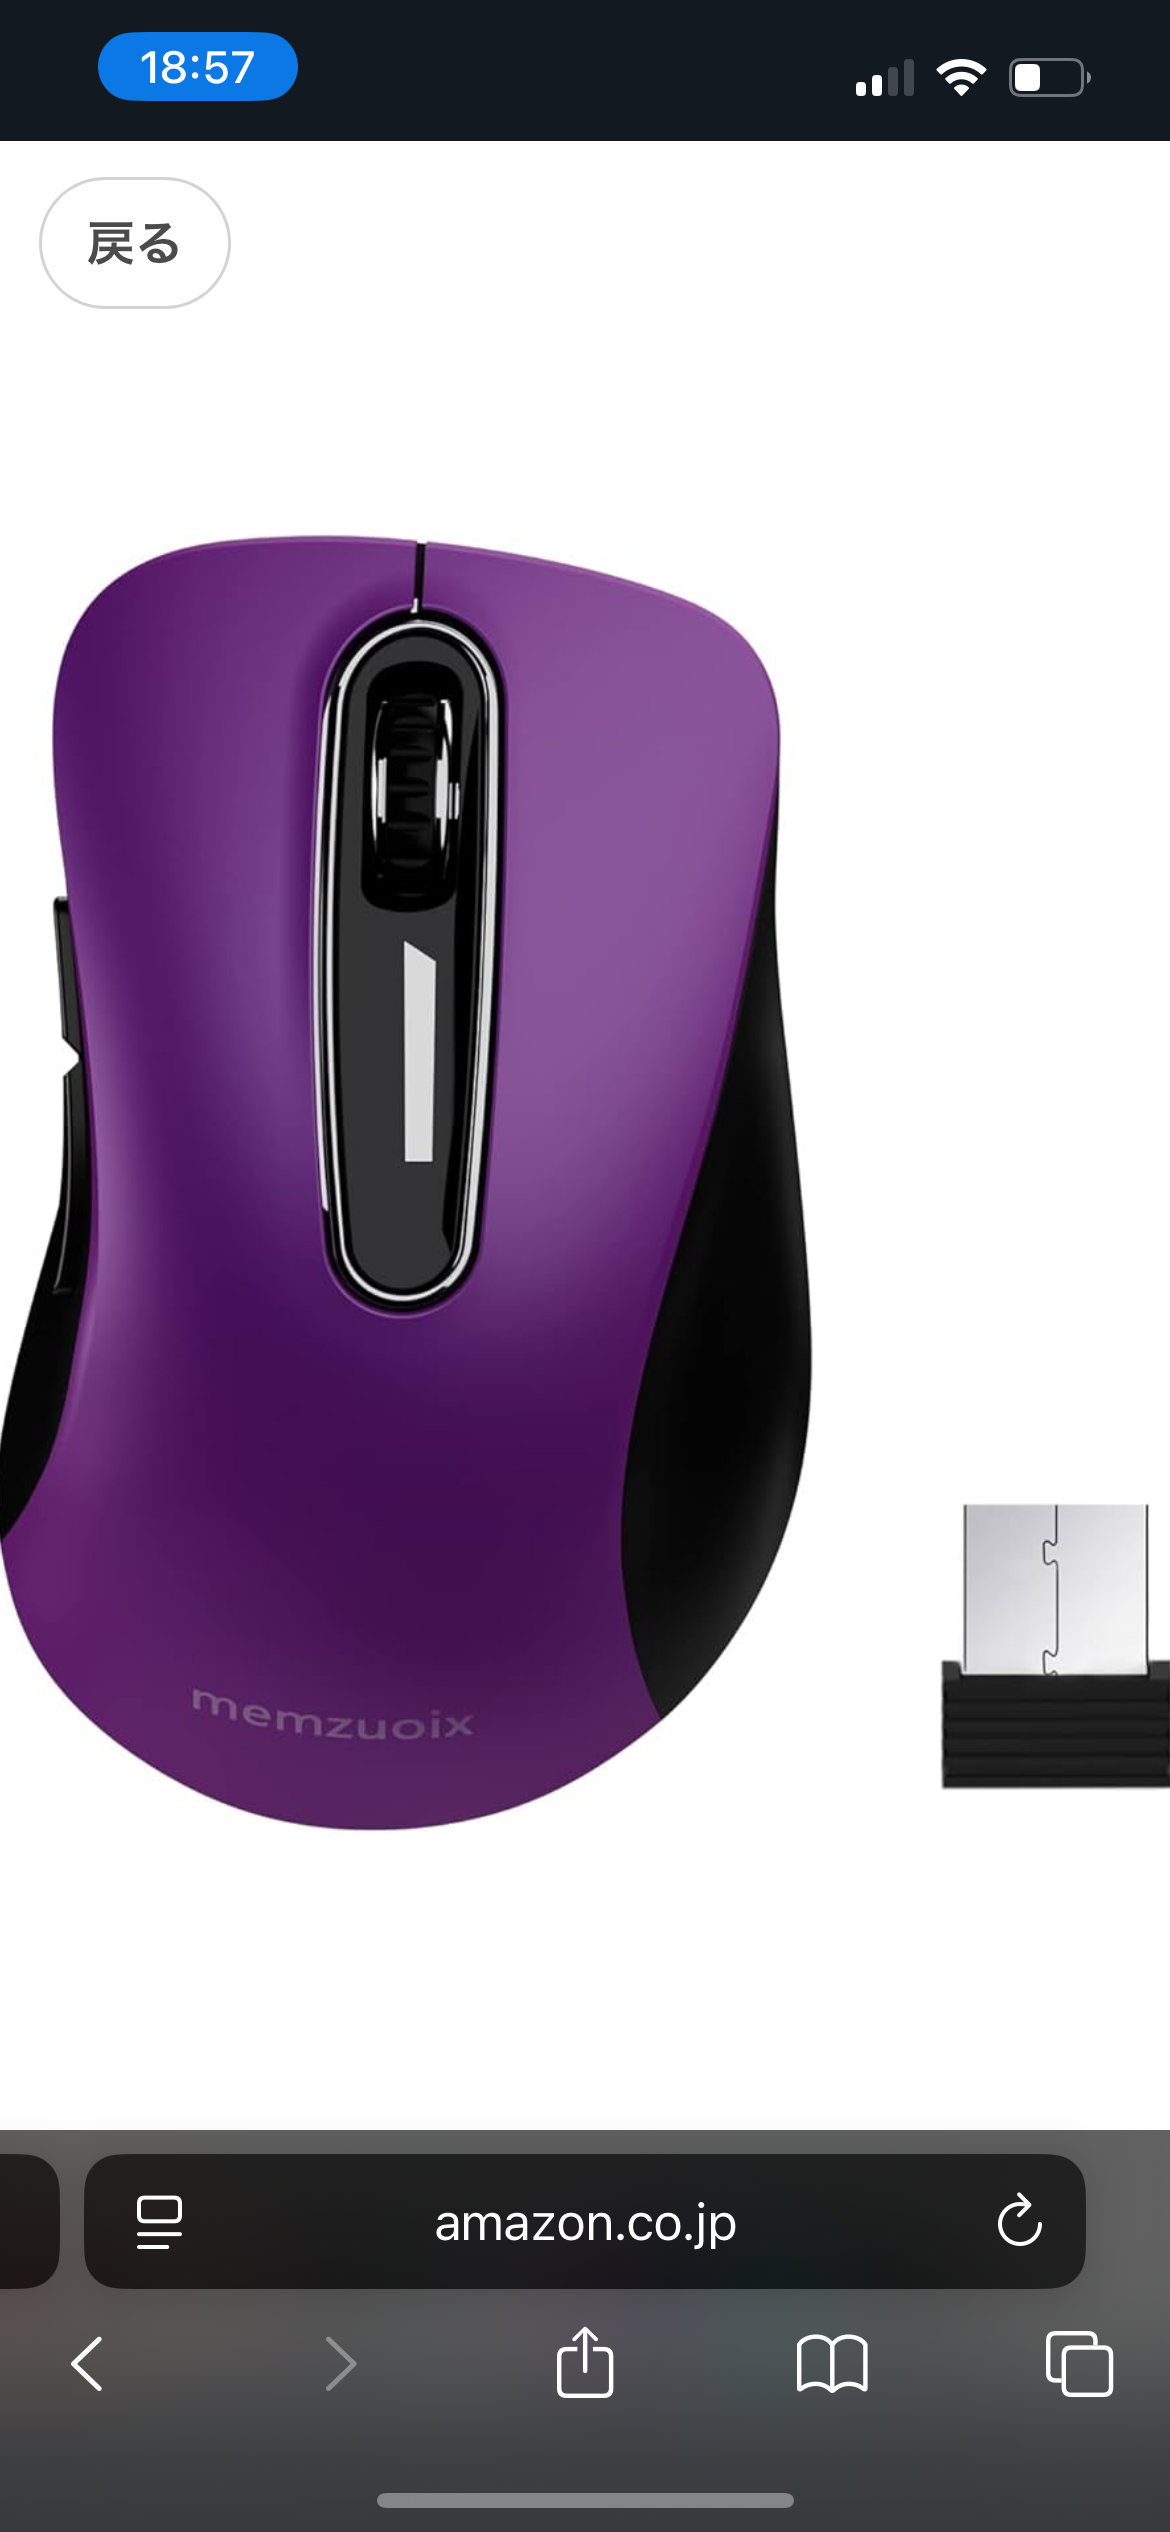mouse: (478, 497, 620, 1873)
